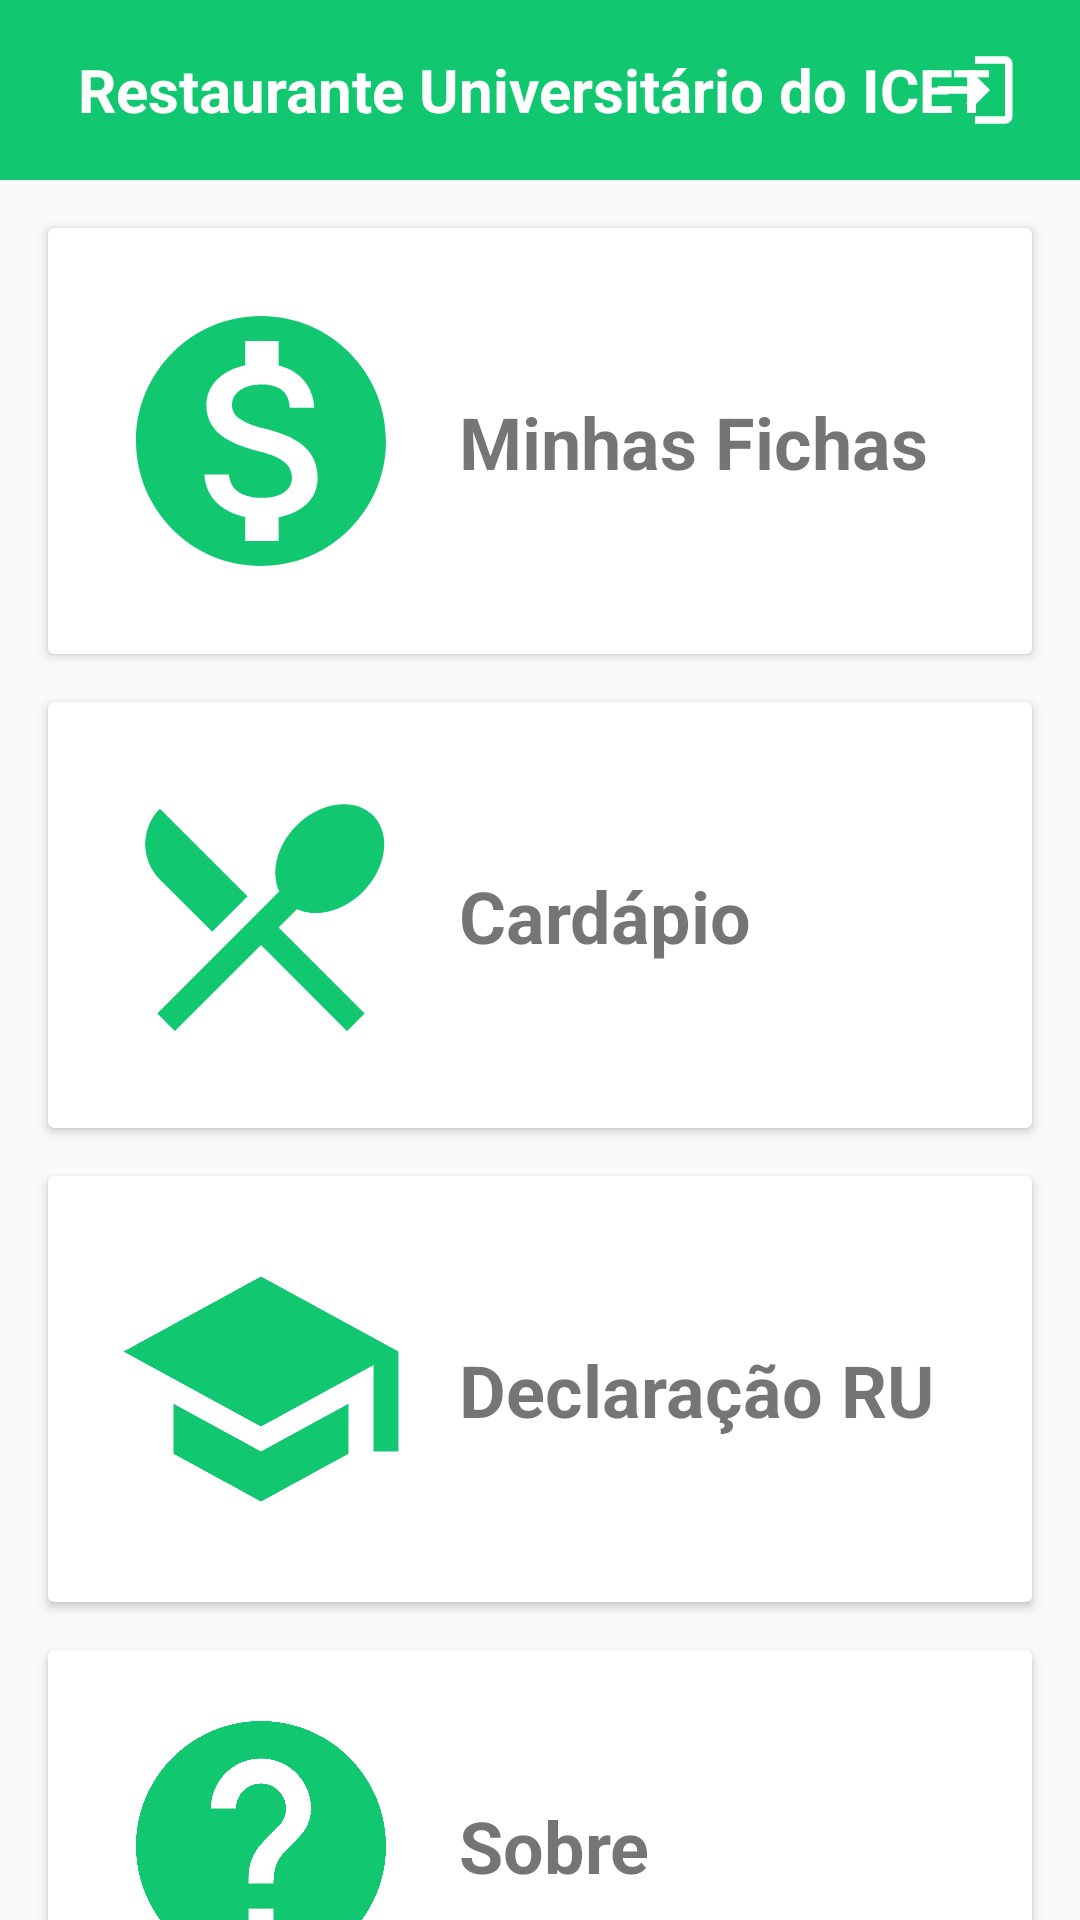

Icons on this 1080×1920 Android screen, each with its box as (x1=x1, y1=y1, x2=x2, y2=y2):
ficha money: (x1=136, y1=316, x2=386, y2=566)
school: (x1=123, y1=1277, x2=399, y2=1502)
talher: (x1=145, y1=804, x2=385, y2=1031)
